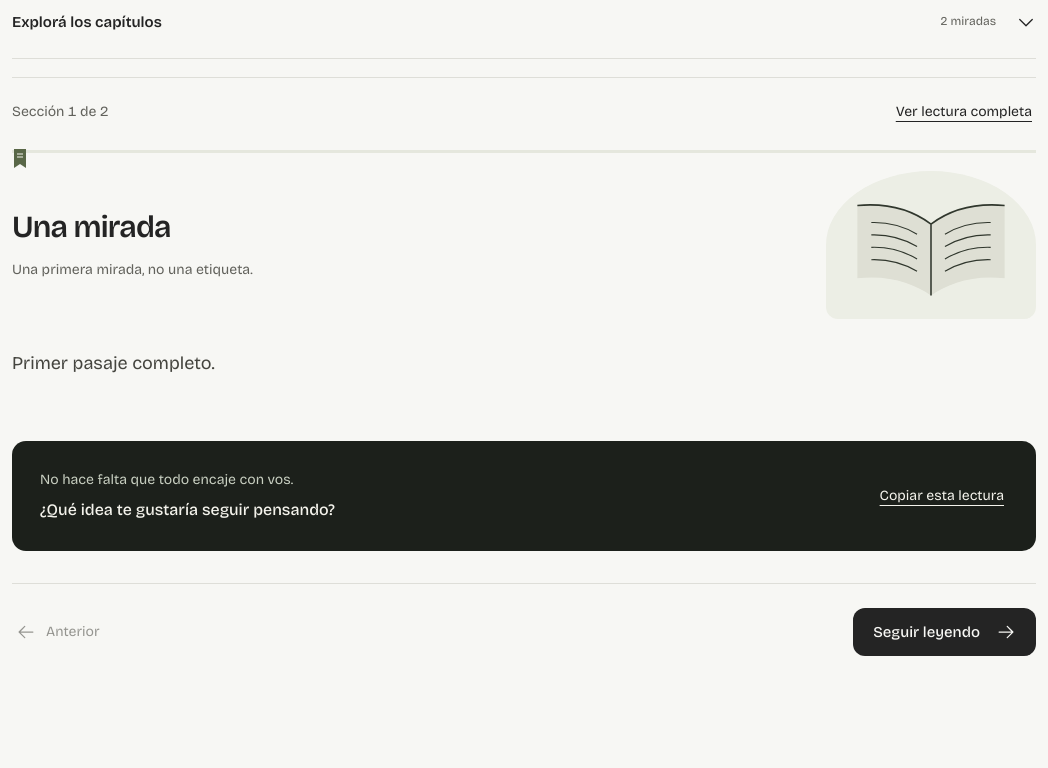
it: A reader chooses the pace › lets a reader view the full text without hiding any section
The width and height of the screenshot is (1048, 768).
Click the button "Ver lectura completa": {"x": 964, "y": 112} [892,90,1036,134]
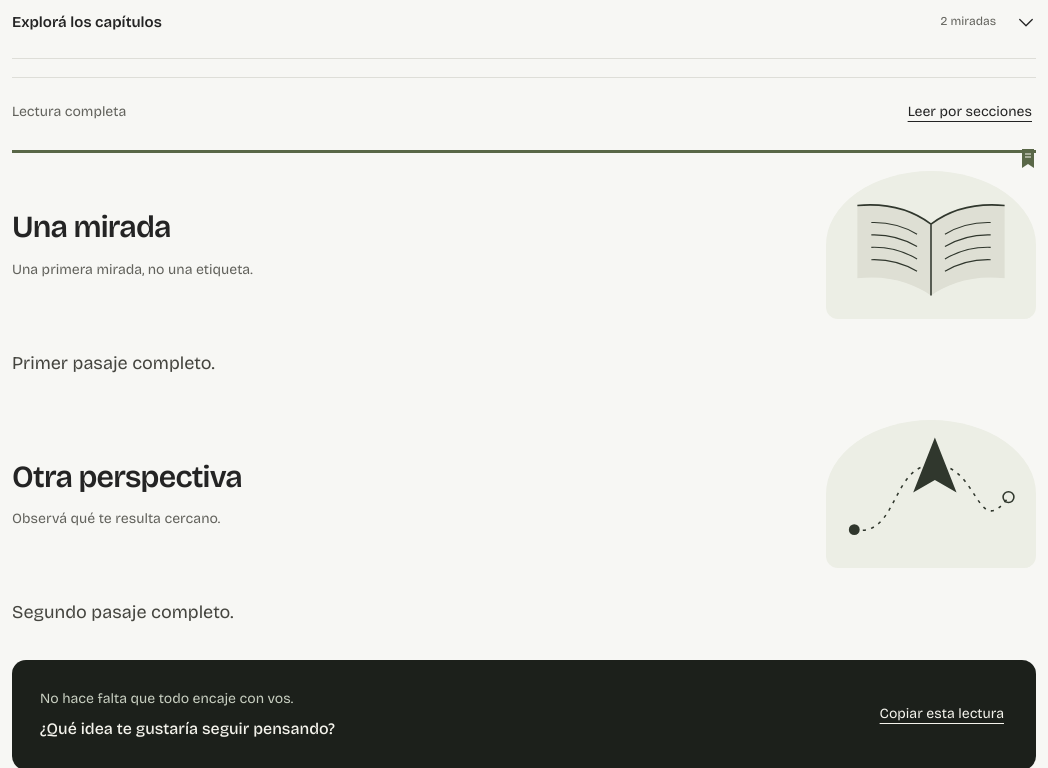
Expected: the text "Primer pasaje completo." is shown, [12,352,214,374]
Result: the text "Segundo pasaje completo." is shown at [12,601,233,623]
